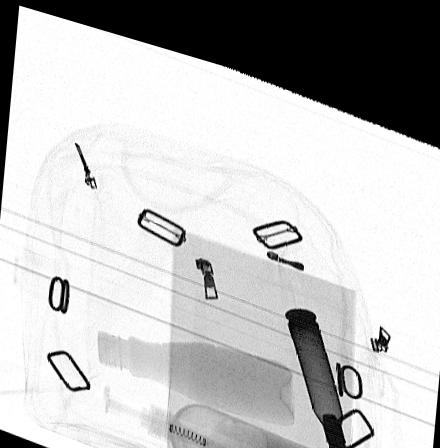Bullet: (282, 289, 350, 448)
